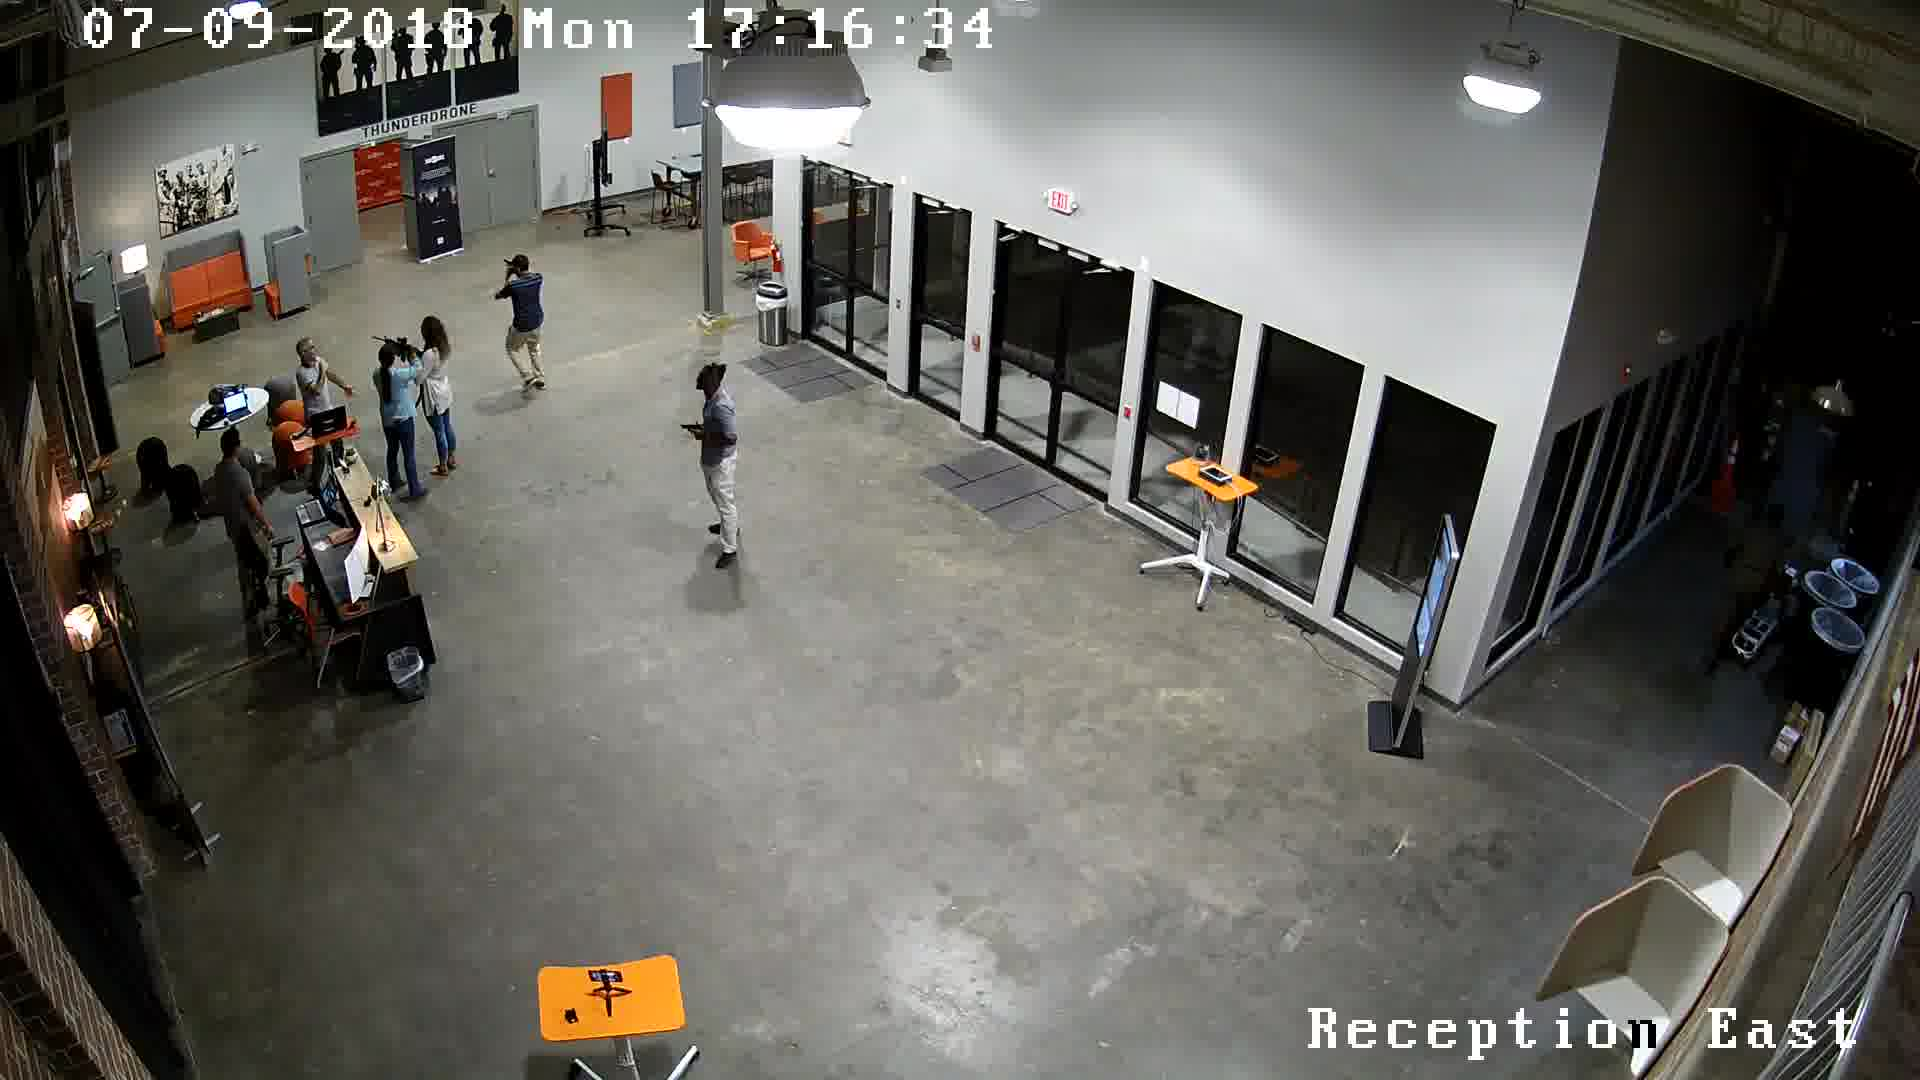pistol: (673, 417, 720, 446), (493, 251, 520, 280)
